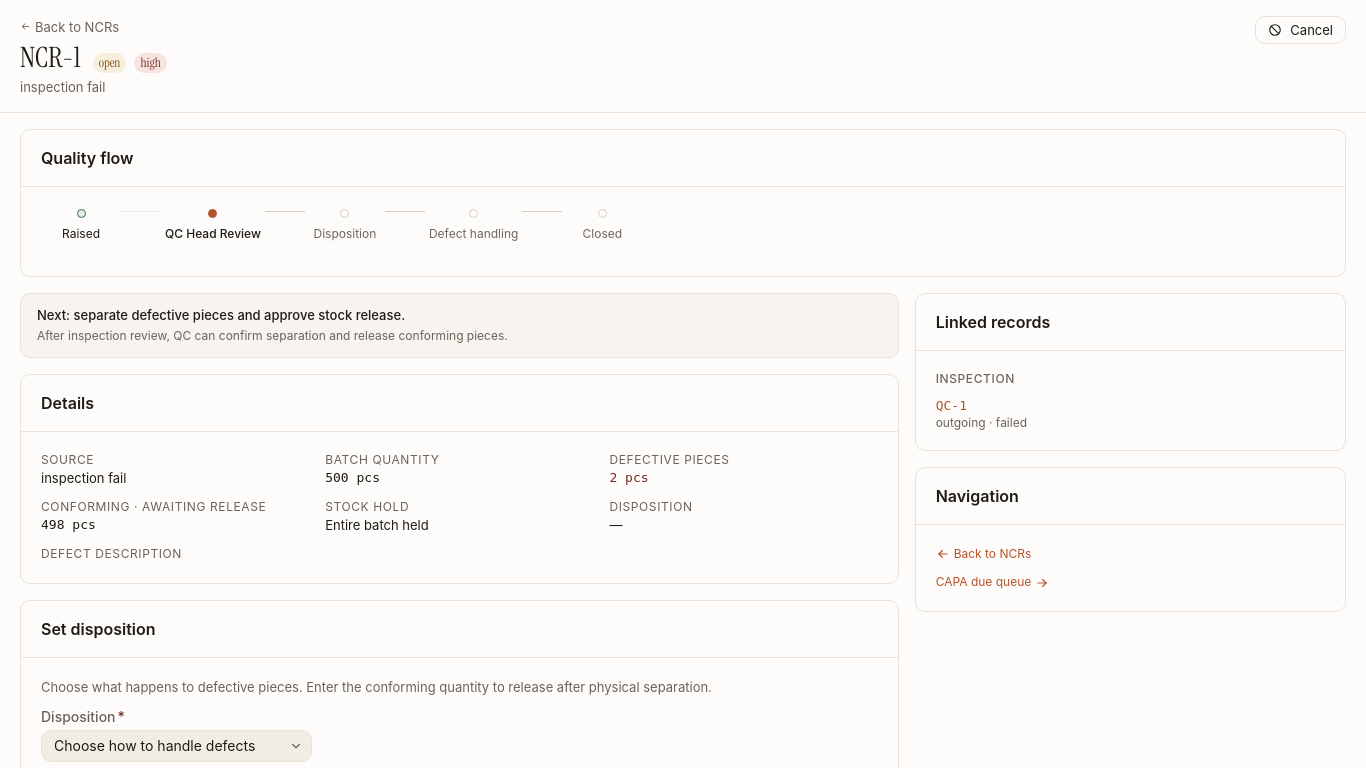
full-batch outgoing defect handling › uses saved coverage, limits good release, and retains entries after a rejected approval
Expected: the text "NCR-1" is shown, [20,38,81,76]
Expected: the text "500 pcs" is shown, [325,470,380,485]
Select "Repair defective pieces" in the dropdown labelled "Disposition*" at (176, 746), box [42,731,311,761]
(page scrolled)
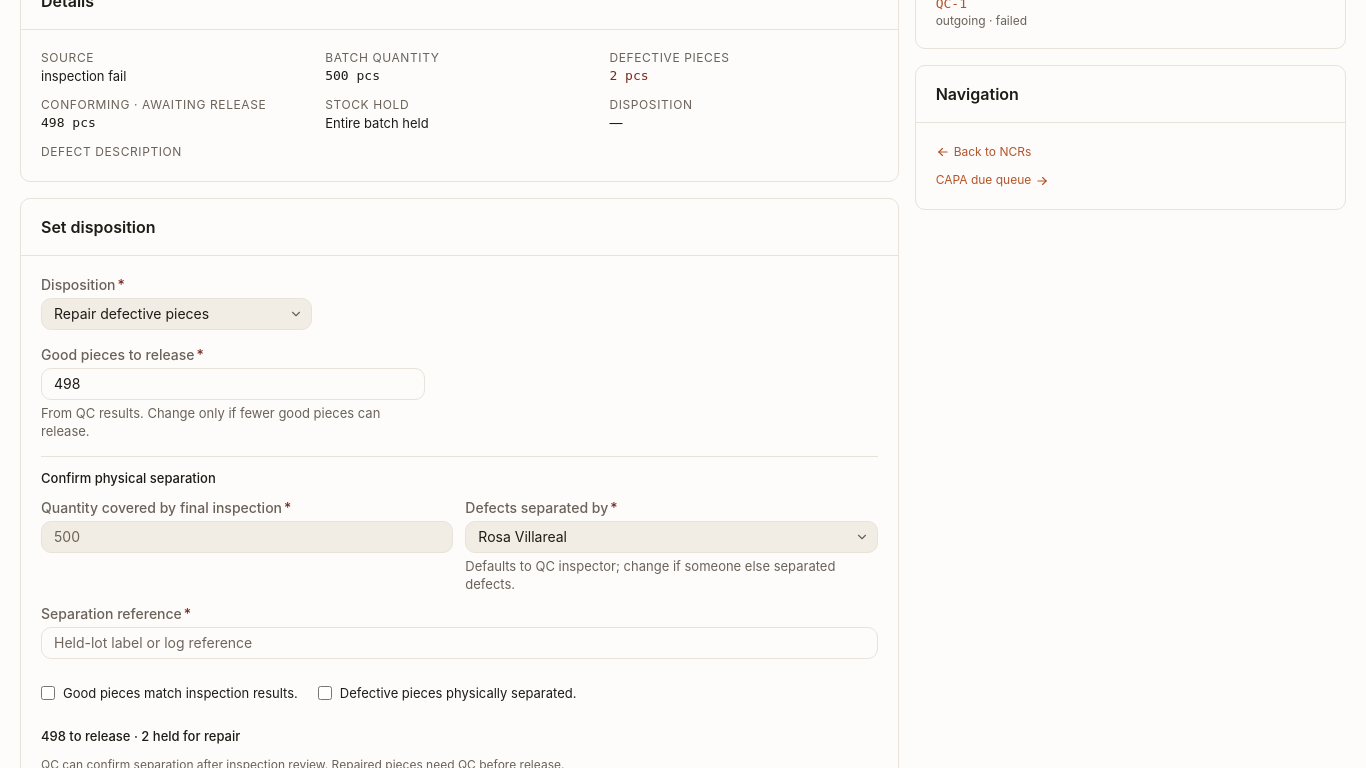
Now the number field labelled "Quantity covered by final inspection" holds "500", box [42,522,452,552]
Now the number field labelled "Good pieces to release" holds "498"
Now the dropdown labelled "Defects separated by" shows "Rosa Villareal", box [466,522,877,552]
Replace the text in the number field labelled "Good pieces to release" with "499" at (233, 384), box [42,369,424,399]
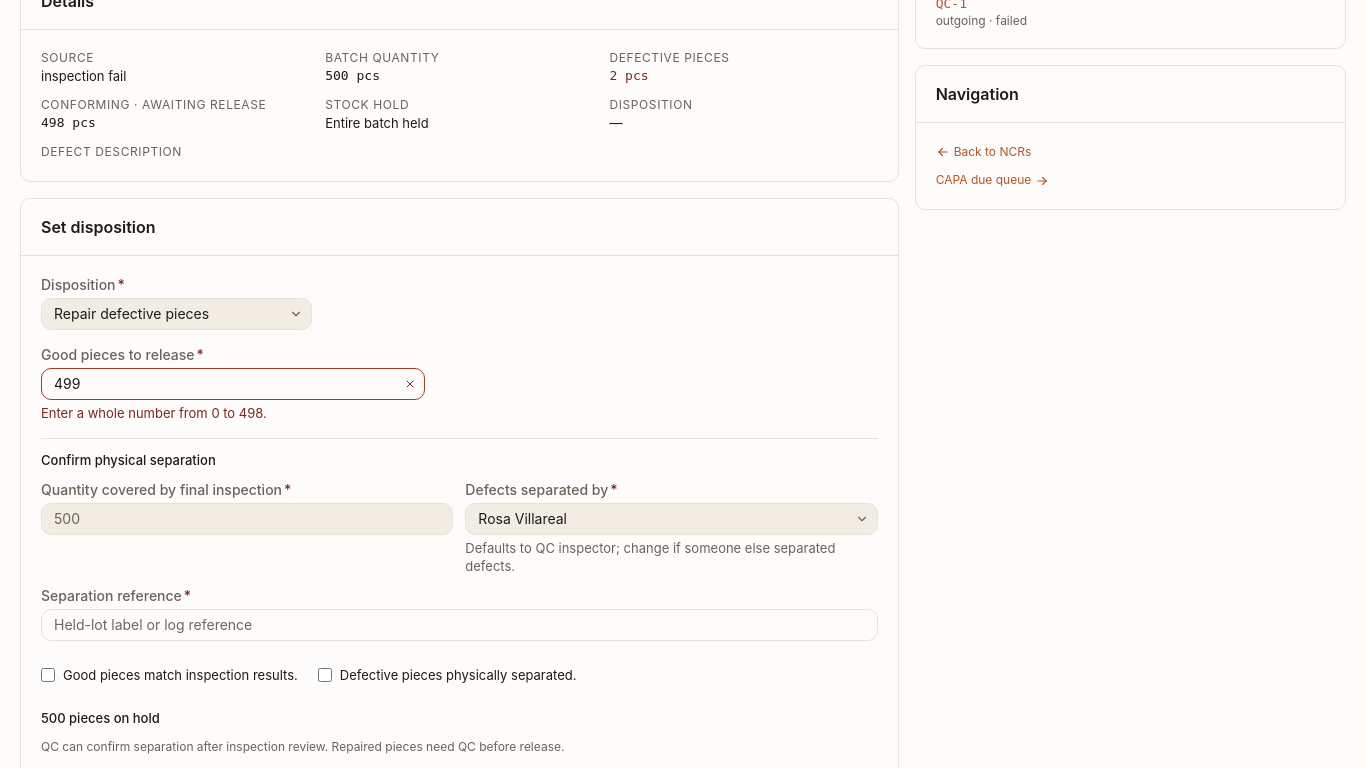
Now the text "Enter a whole number from 0 to 498." is shown, box [41,405,267,421]
Replace the text in the number field labelled "Good pieces to release" with "498" at (219, 384), box [42,369,396,399]
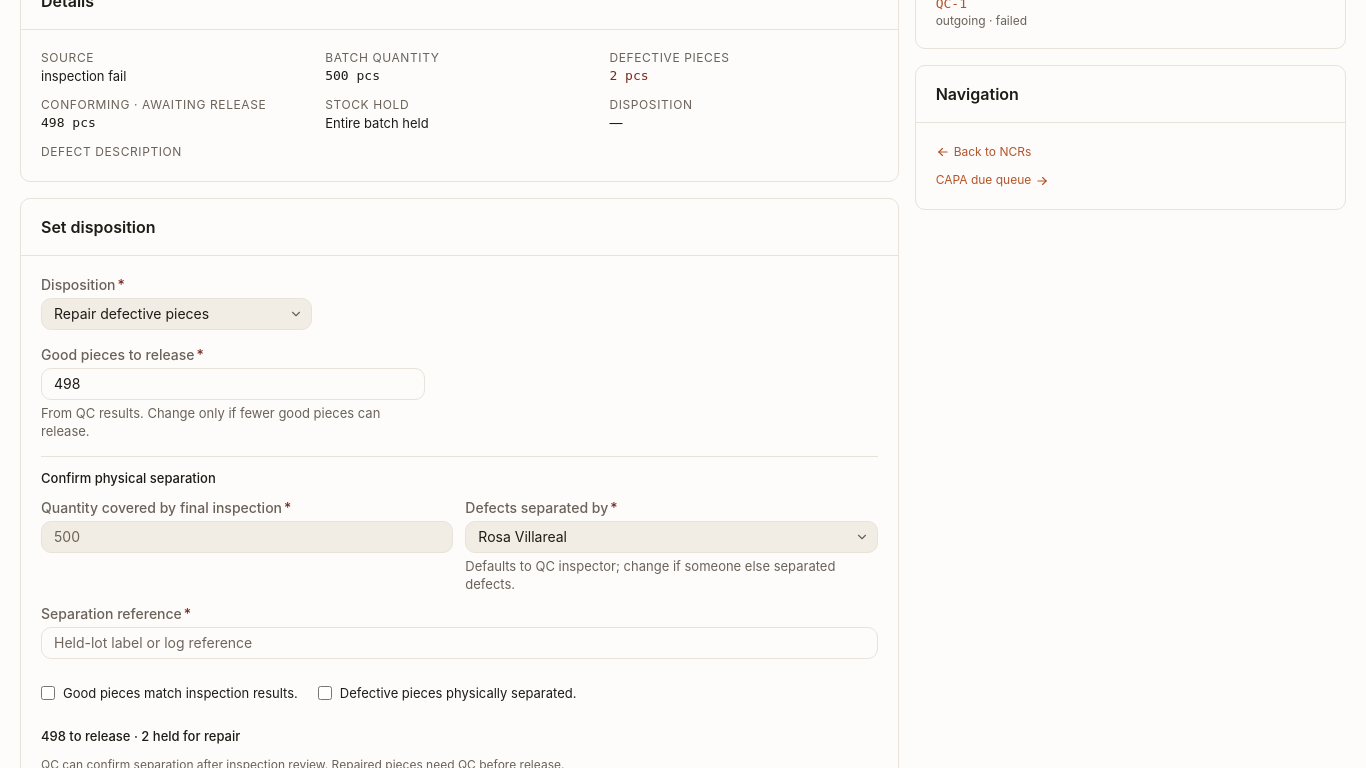
Type "HOLD-500" into the field labelled "Separation reference" at (459, 643), box [42,628,877,658]
Click the checkbox labelled "Good pieces match inspection results." at (48, 693), box [41,686,55,700]
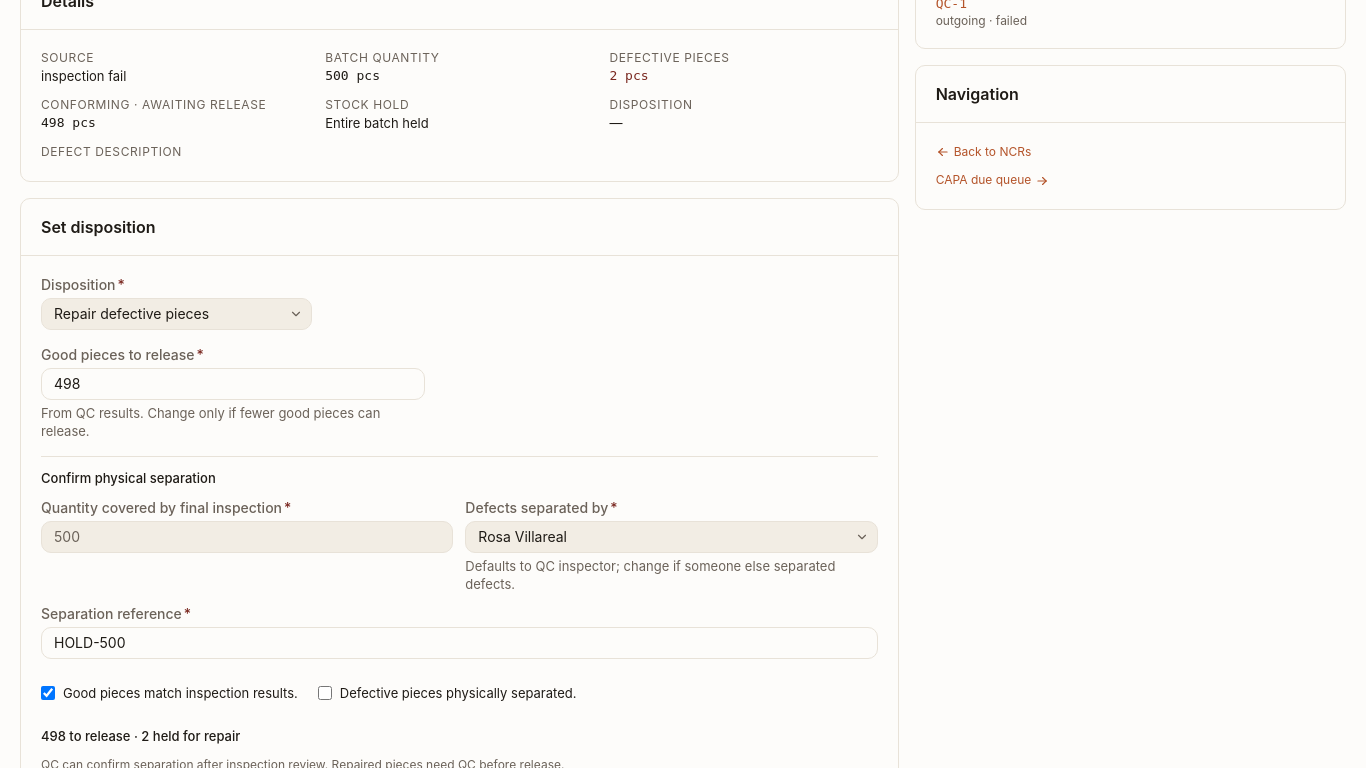
Click the checkbox labelled "Defective pieces physically separated." at (325, 693), box [318,686,332,700]
(page scrolled)
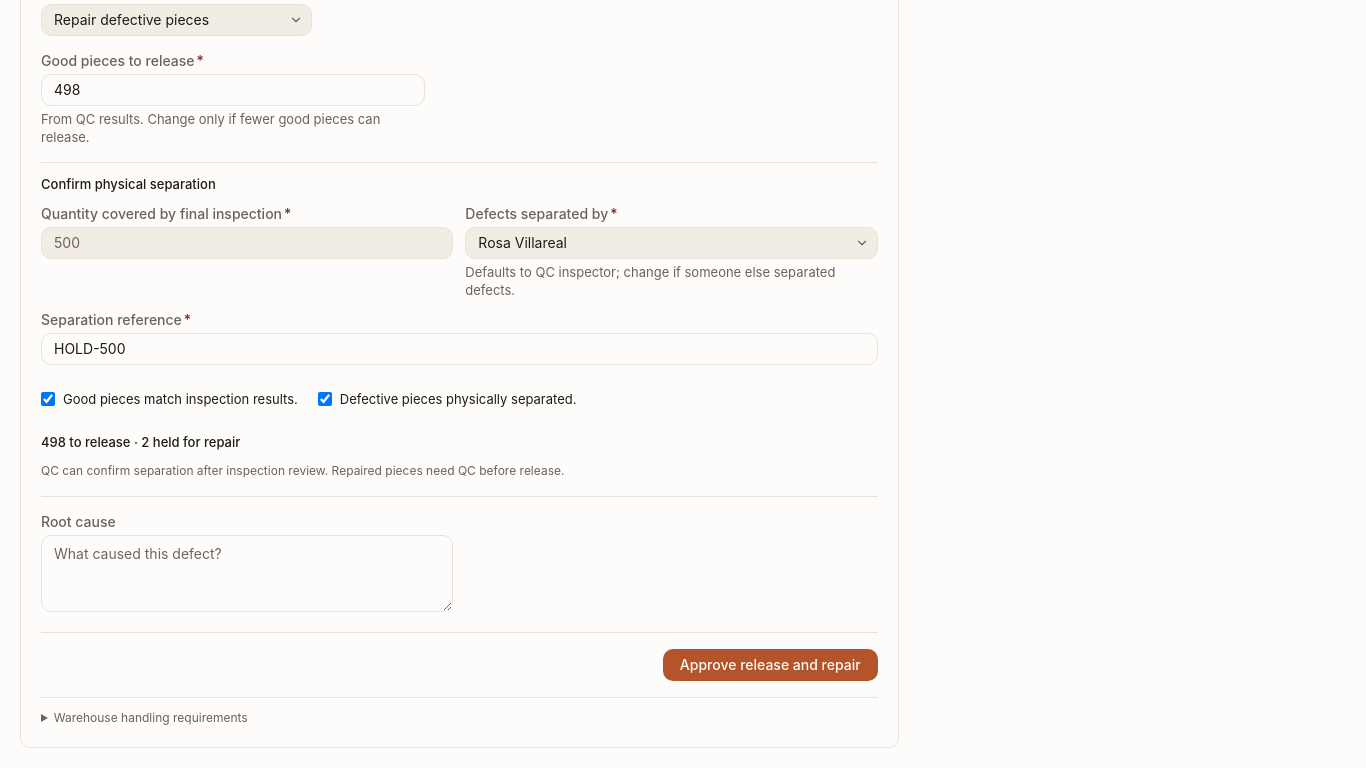
Click the button "Approve release and repair" at (770, 665), box [663,649,878,681]
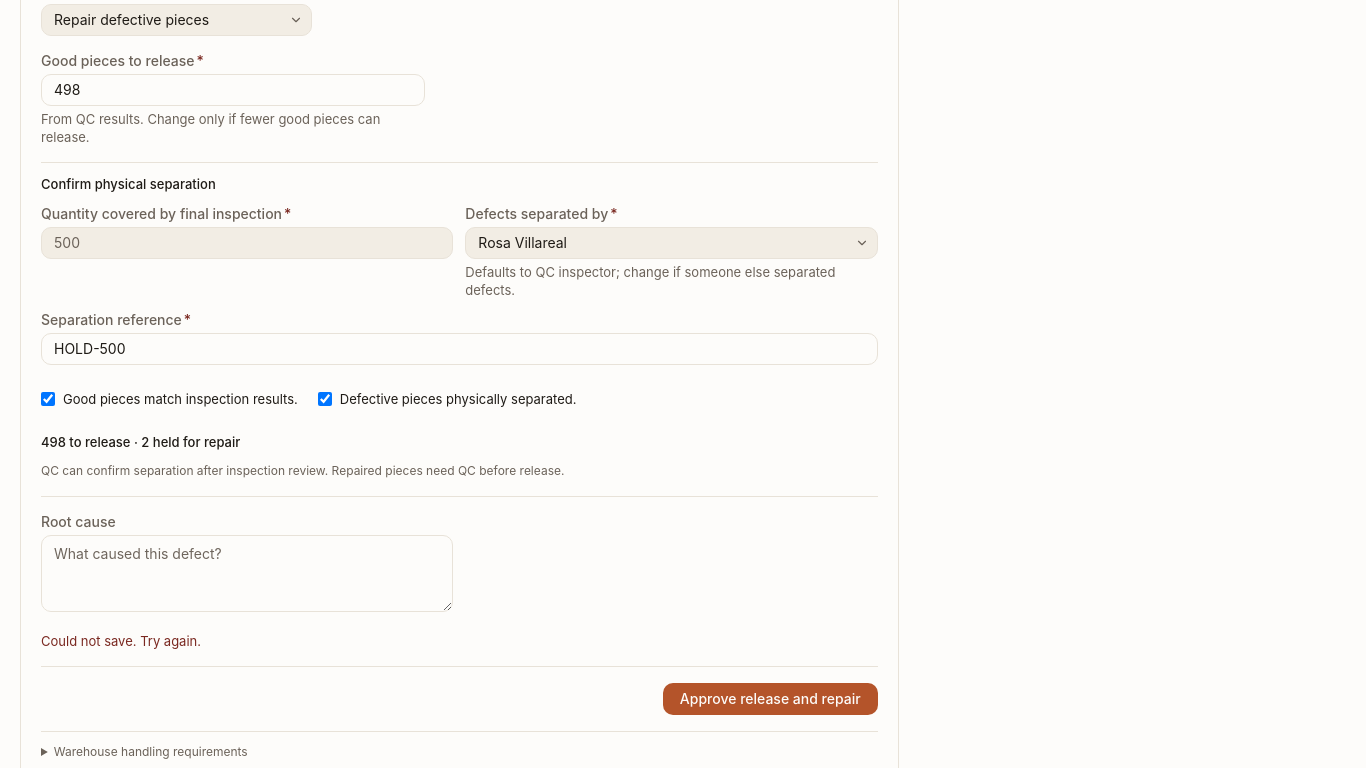
Now the message reads "Could not save. Try again.", box [41,633,201,649]
